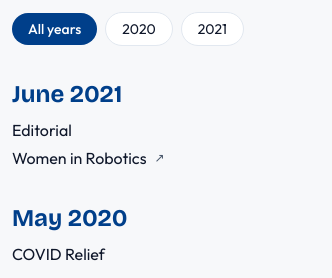
Test: ArchiveBrowser › shows all years again after selecting 'All years'
Step 1. Click the button "2021" → (212, 29), box [181,12,244,46]
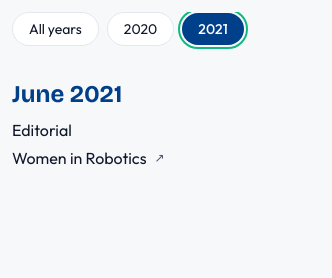
Step 2. Click the button "All years" → (55, 29), box [12,12,99,46]
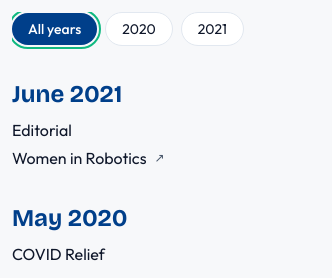
Check: the heading "June 2021" is shown, box [12,80,122,108]
Check: the heading "May 2020" is shown, box [12,204,128,232]
